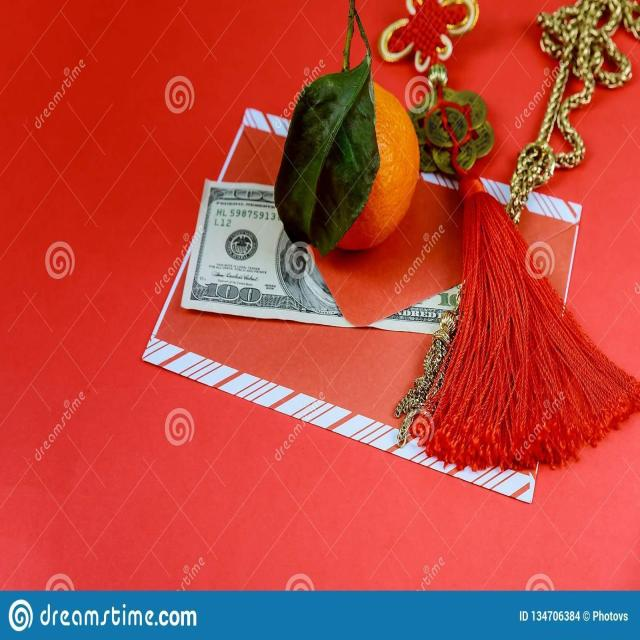100-Front: (197, 178, 483, 332)
